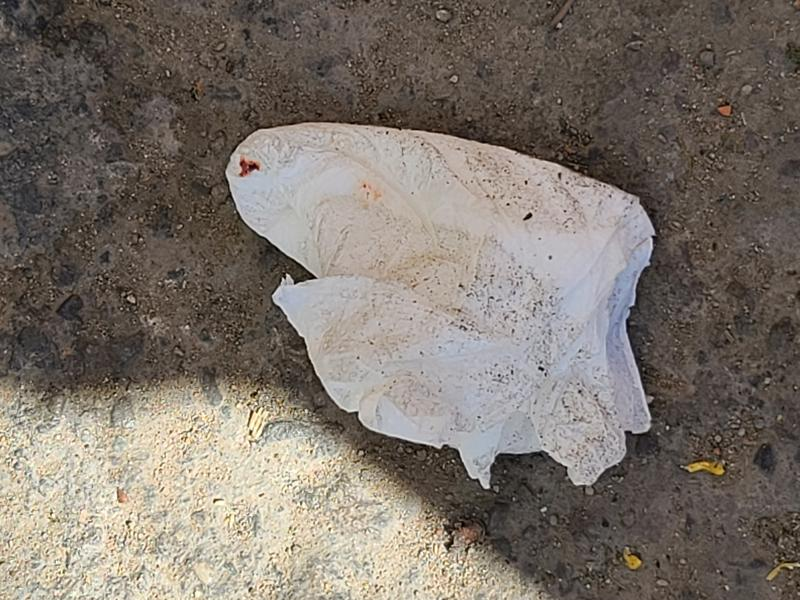papel: (223, 123, 658, 494)
